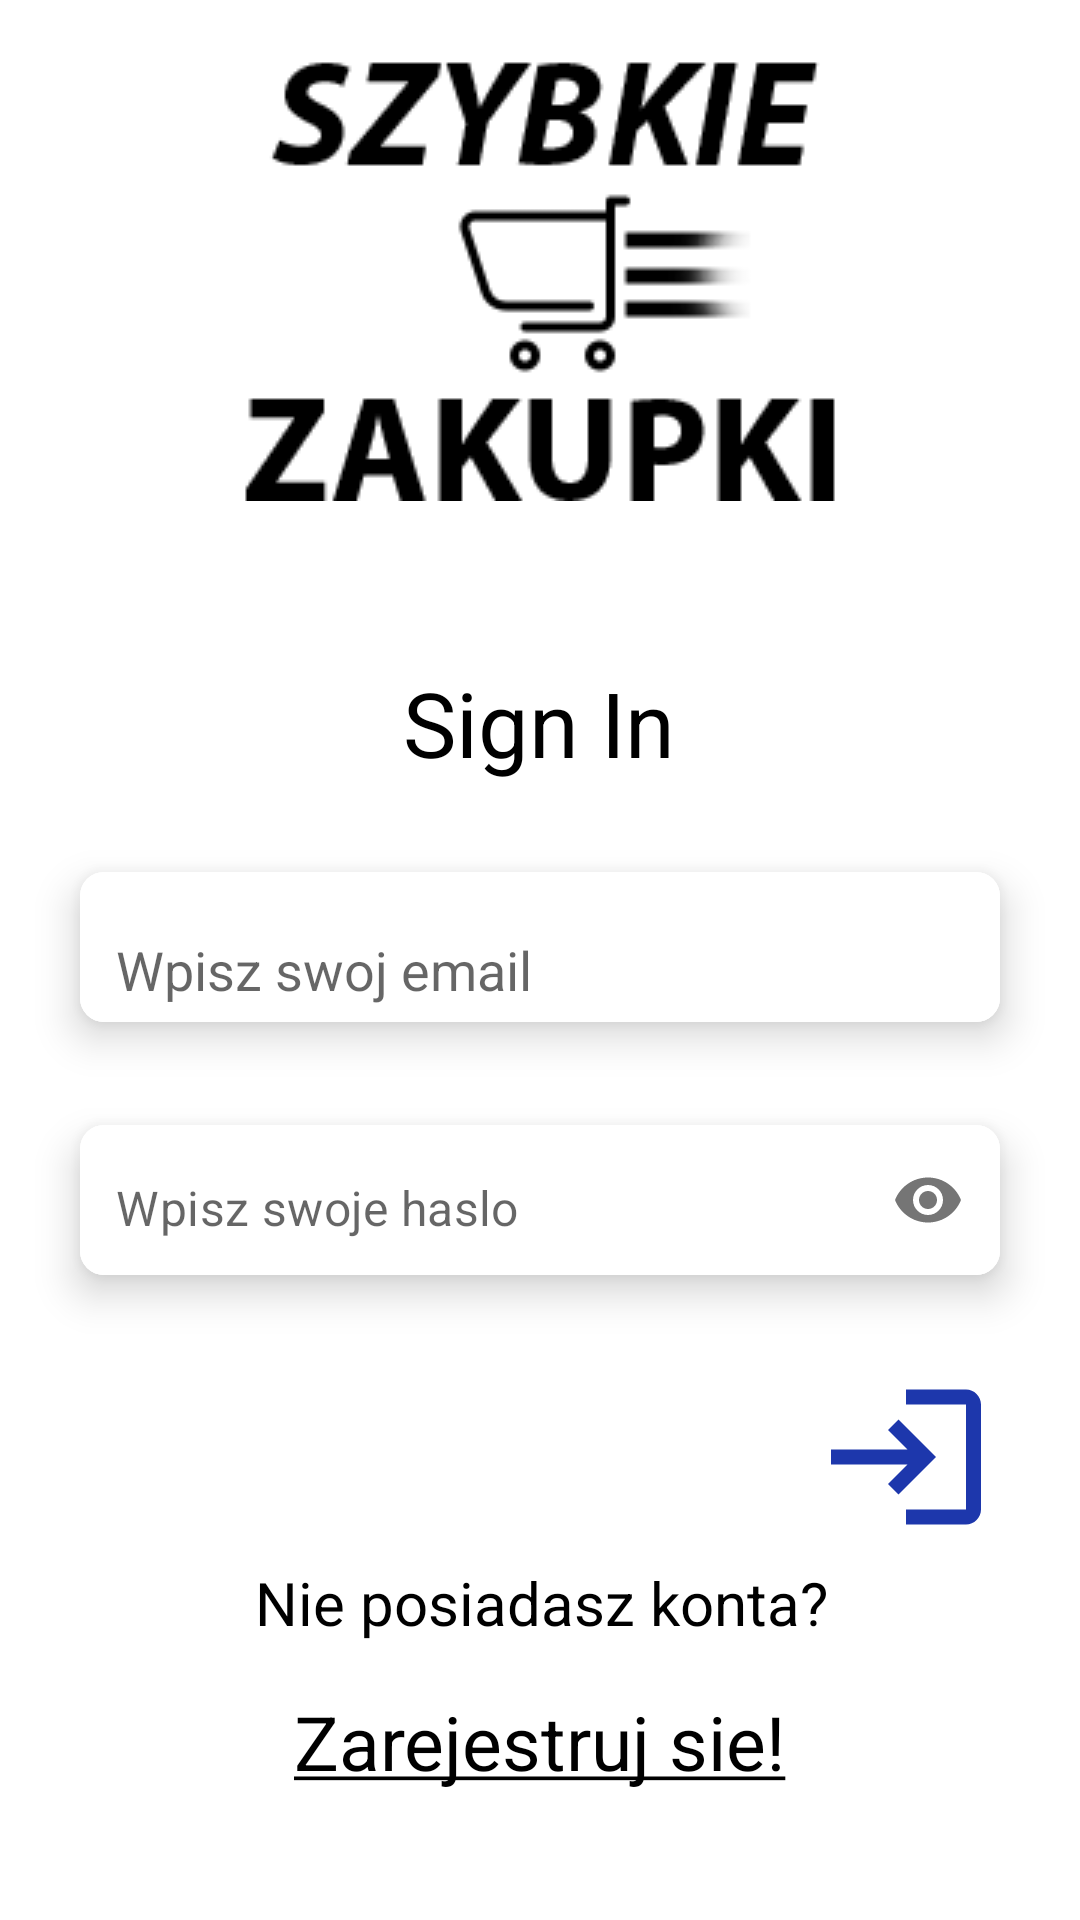

Point at icon controls on the screen. Image size 1080*1920, points as point (x, y).
login arrow: point (906, 1457)
